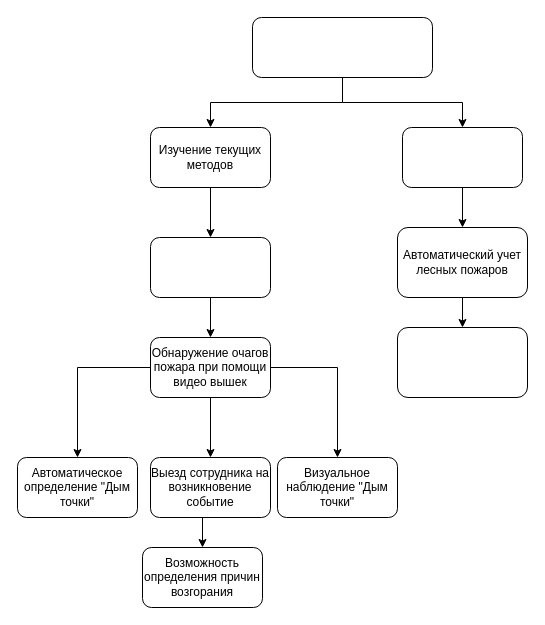
The diagram is 545 pixels wide and 625 high, and some of its shapes have lost their labels. The box of each missing label's shape, as (x1, y1, x2, y2) in pixels:
Автоматизированный расчет ущерба от лесного пожара: (396, 326, 528, 398)
Выбор подходящего из методов: (150, 236, 270, 298)
Изучение информации о местности: (402, 126, 522, 188)
Обнаружение лесных пожаров: (252, 16, 432, 78)
